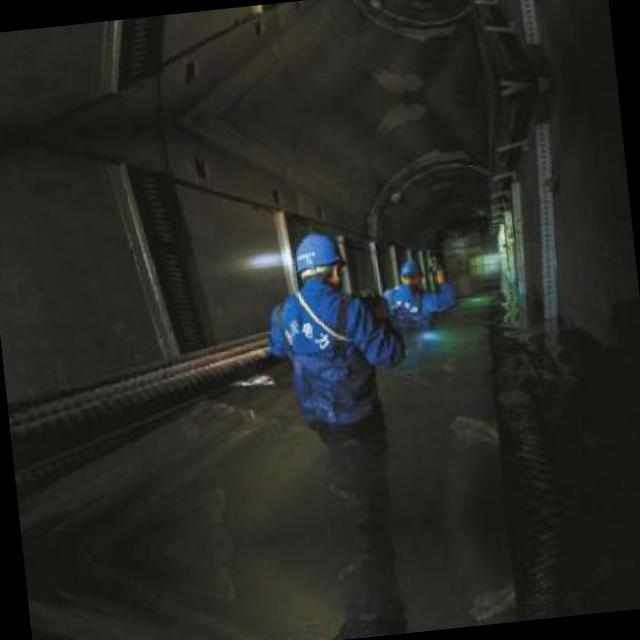helmet: (290, 226, 346, 294), (396, 257, 423, 287)
